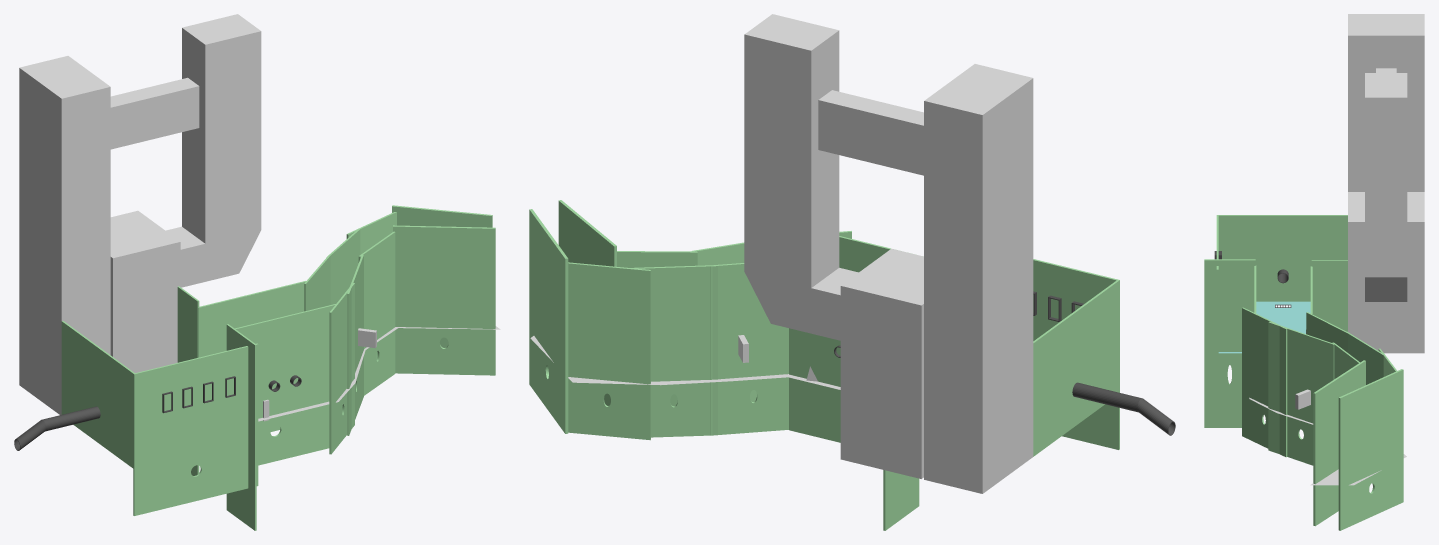
Rendered from Blockout.fbx.
3 views of the same model, side by side, from view 1: azimuth 30°, elevation 25°; view 2: azimuth 150°, elevation 25°; view 3: azimuth 270°, elevation 25° (orthographic). The views are drawn at different scales.
Parts seen in each view (by area): view 1: Cube.018, Cube.002, Cube.007, Cube.026, Cube.019, Cube, Cube.025, Cube.020, Cube.024, Cube.001, Cube.031, Cube.023 (+7 smaller); view 2: Cube.002, Cube.018, Cube.029, Cube.028, Cube.027, Cube, Cube.001, Cube.030, Cube.020, Cube.007, Cube.026, Cube.032 (+5 smaller); view 3: Cube.018, Cube.030, Cube.002, Cube, Cube.031, Cube.023, Cube.024, Cube.001, Cube.026, Cube.032, Plane, Cube.028 (+4 smaller).
Part boxes in pixels (x1,y1,x2,y2): Cube.018: (110, 14, 261, 330); Cube.002: (19, 56, 110, 414); Cube.007: (133, 343, 258, 515); Cube.026: (393, 225, 495, 375); Cube.019: (235, 304, 337, 465); Cube: (61, 321, 134, 468); Cube.025: (358, 231, 395, 395); Cube.020: (198, 281, 306, 431); Cube.024: (329, 283, 354, 454); Cube.001: (110, 315, 177, 372); Cube.031: (226, 324, 256, 530); Cube.023: (347, 255, 363, 435); Cube.002: (924, 64, 1033, 493); Cube.018: (744, 14, 923, 392); Cube.029: (568, 262, 650, 440); Cube.028: (630, 265, 717, 437); Cube.027: (710, 263, 788, 435); Cube: (1033, 280, 1118, 456); Cube.001: (840, 373, 923, 478); Cube.030: (529, 209, 568, 433); Cube.020: (789, 328, 840, 442); Cube.007: (1033, 259, 1119, 449); Cube.026: (558, 200, 616, 405); Cube.032: (883, 470, 919, 530); Cube.018: (1348, 68, 1424, 301); Cube.030: (1338, 369, 1403, 530); Cube.002: (1348, 14, 1424, 191); Cube: (1218, 215, 1347, 301); Cube.031: (1204, 259, 1255, 427); Cube.023: (1268, 321, 1334, 465); Cube.024: (1242, 307, 1287, 457); Cube.001: (1348, 287, 1424, 353); Cube.026: (1313, 360, 1365, 526); Cube.032: (1311, 260, 1347, 331); Plane: (1218, 301, 1310, 353); Cube.028: (1347, 331, 1384, 384).
Size of the model in its own units: 42664 by 33091 by 17792.
